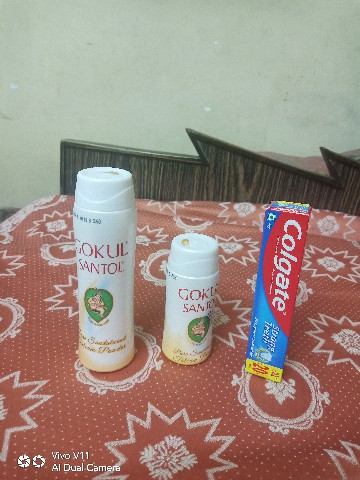colgatetoothpaste small: (242, 196, 314, 390)
gokulsantol big: (64, 157, 154, 384)
gokulsantol small: (158, 226, 230, 373)
